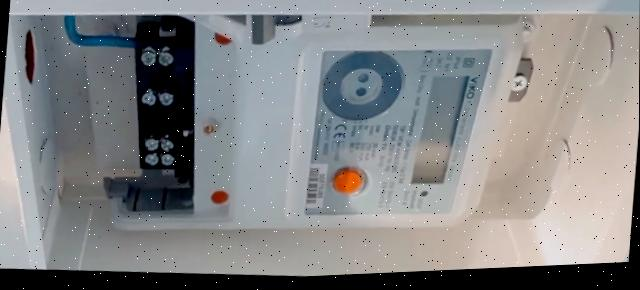electric-meter-detection: (118, 12, 523, 228)
